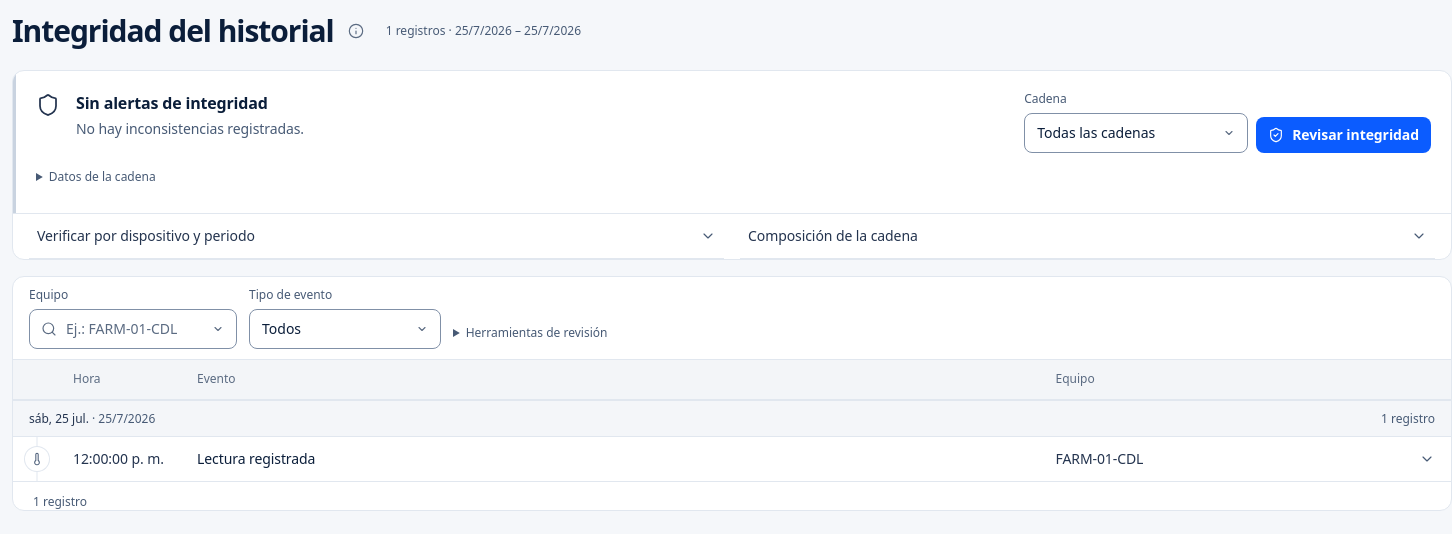
Test case: TrazabilidadPage (RF-14, RF-15, HU-26, HU-47) › oculta sellos en vista básica y permite expandir detalles técnicos
Click the heading "Herramientas de revisión". click: (537, 332)
box: left=466, top=324, right=607, bottom=340
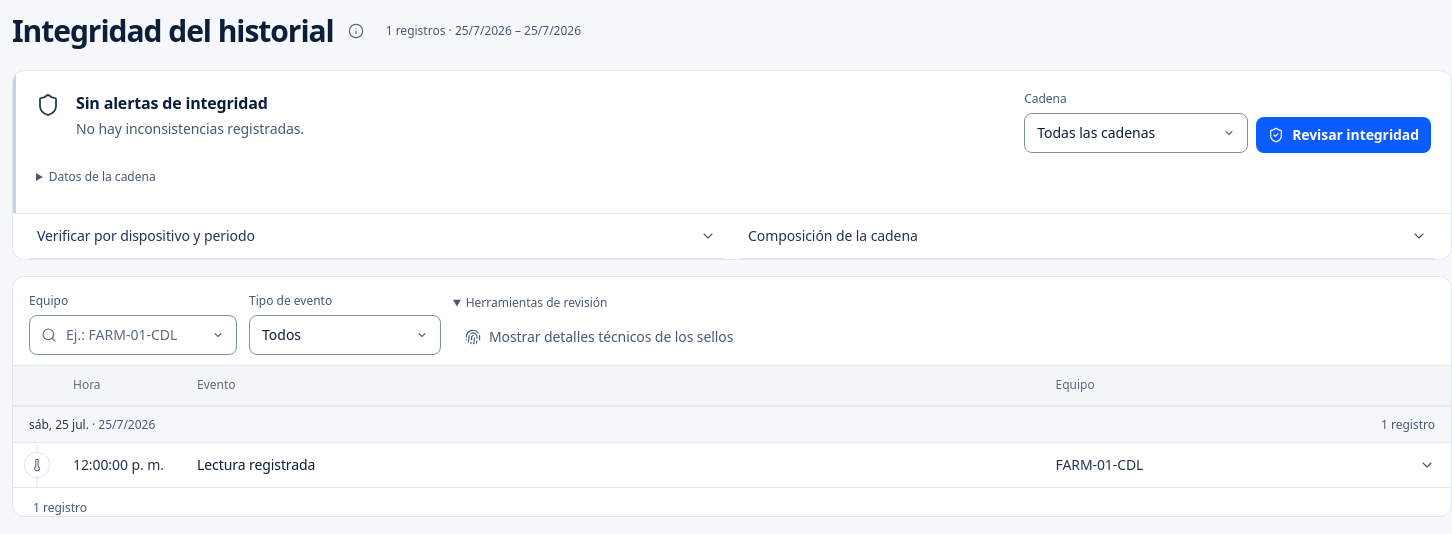
Click the button "Mostrar detalles técnicos de los sellos". click: (599, 336)
box: left=453, top=318, right=745, bottom=354
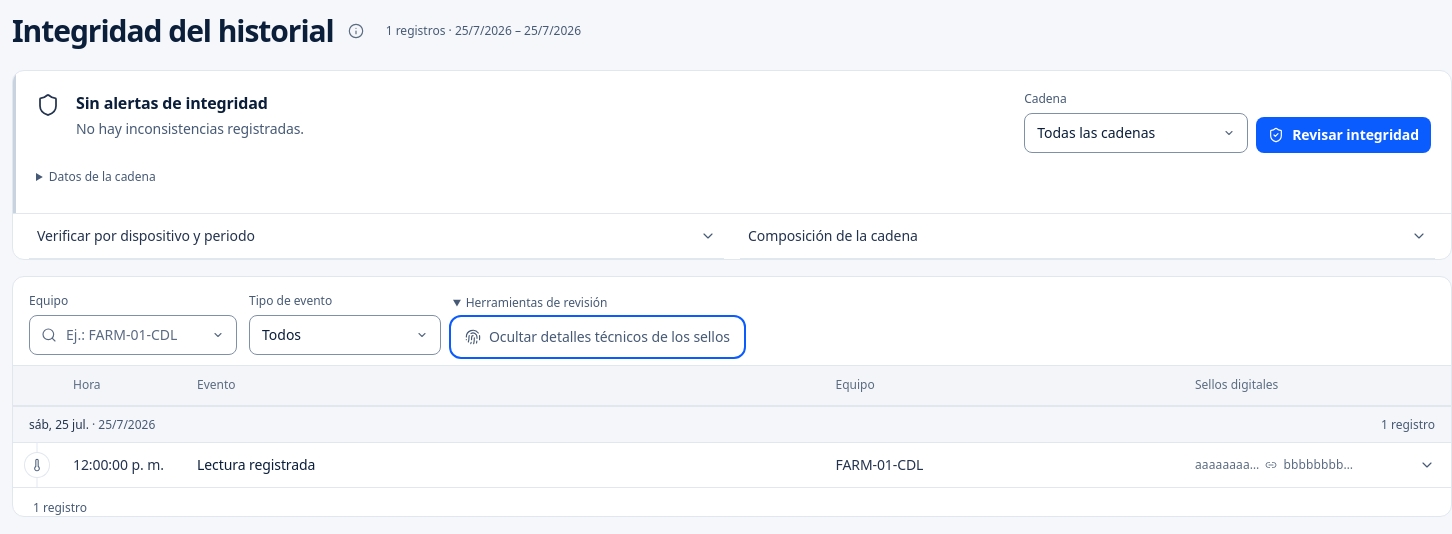
Result: the column heading "Sellos digitales" is shown at left=1183, top=366, right=1403, bottom=406
Result: the button "Ocultar detalles técnicos de los sellos" is expanded at left=453, top=318, right=742, bottom=354
